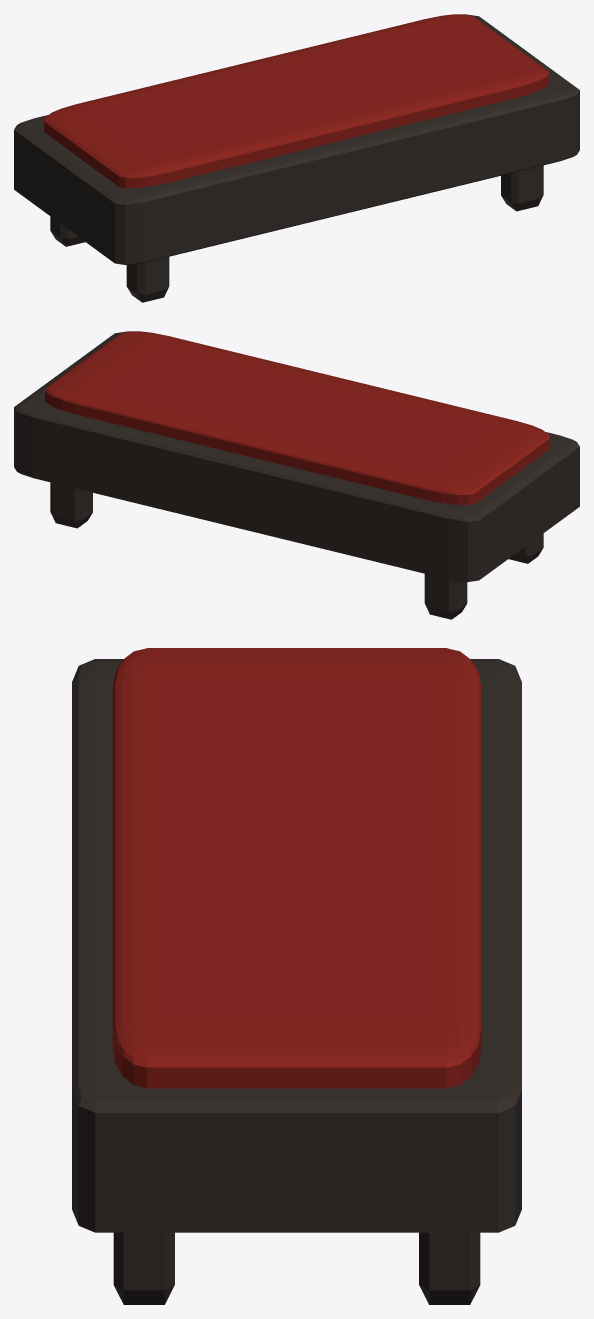
The model's file is Bench.fbx.
3 views of the same model, one above another, from view 1: azimuth 30°, elevation 25°; view 2: azimuth 150°, elevation 25°; view 3: azimuth 270°, elevation 25° (orthographic). The views are drawn at different scales.
Parts seen in each view (by area): view 1: Bench; view 2: Bench; view 3: Bench.
Boxes of the visible parts, bbox=[...] form: Bench: bbox=[14, 14, 579, 302]; Bench: bbox=[14, 331, 579, 619]; Bench: bbox=[72, 648, 521, 1304].
Bounding box in the file's own units: 477 × 128 × 200.
1 material, 1 textured.
